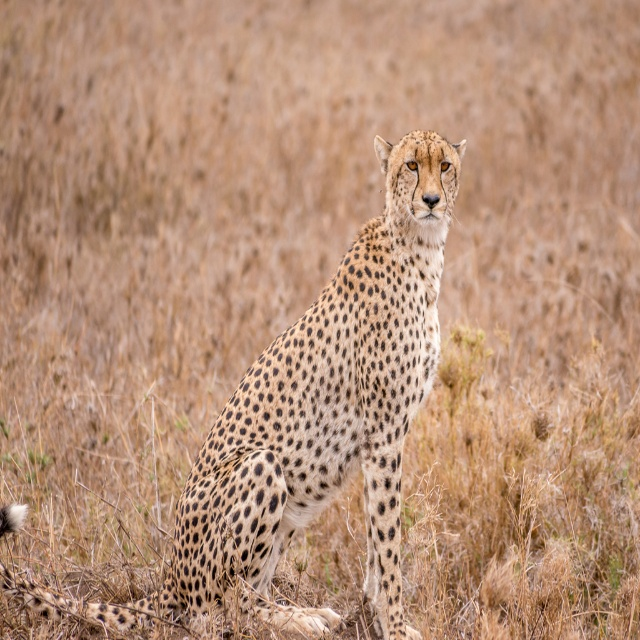Cheetah: (0, 127, 466, 639)
